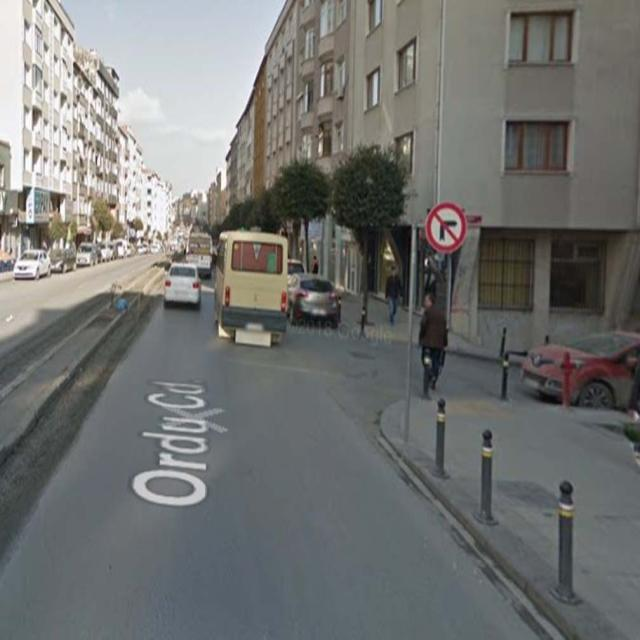sagadonulmez: (425, 202, 467, 254)
